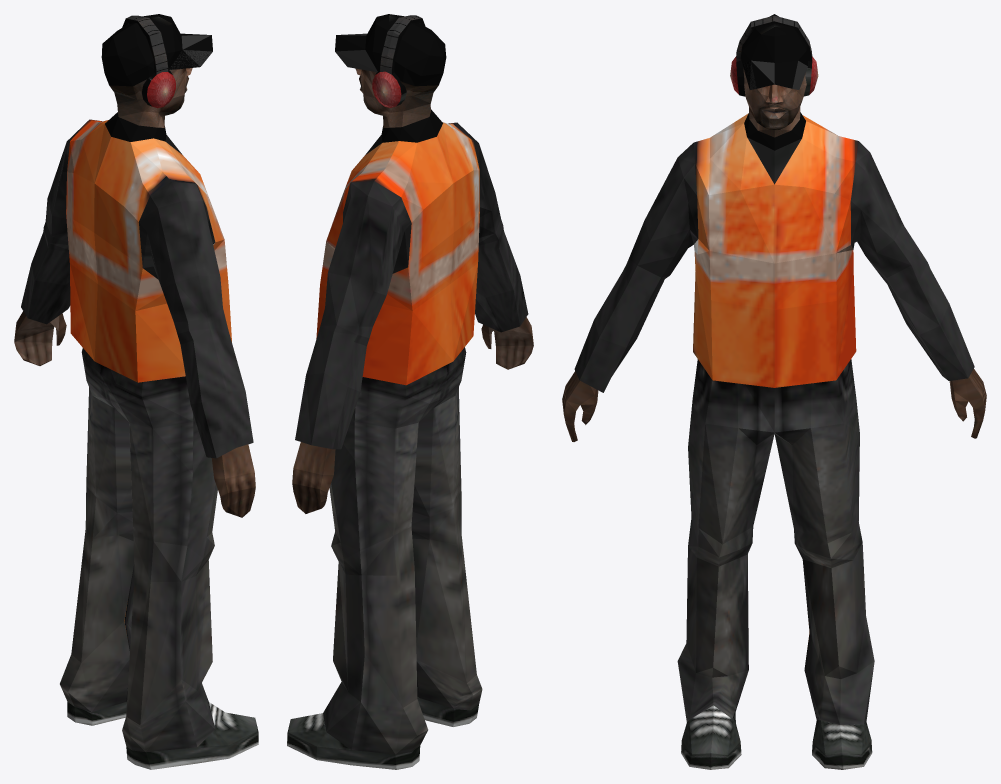
Rendered from bmyap.obj.
The picture shows the model from 3 angles, left to right: view 1: azimuth 30°, elevation 25°; view 2: azimuth 150°, elevation 25°; view 3: azimuth 270°, elevation 25°; orthographic projection.
Visible parts, largest first — view 1: _Pelvis; view 2: _Pelvis; view 3: _Pelvis.
Boxes of the visible parts, box(x1,y1,x2,y2) form: _Pelvis: box(14, 14, 258, 769); _Pelvis: box(287, 14, 533, 769); _Pelvis: box(562, 14, 986, 769).
Bounding box in the file's own units: 0.3697 × 1.9 × 1.02.
Materials: 1 (1 with a texture image).
